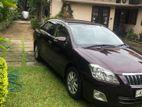car: (33, 19, 142, 106)
